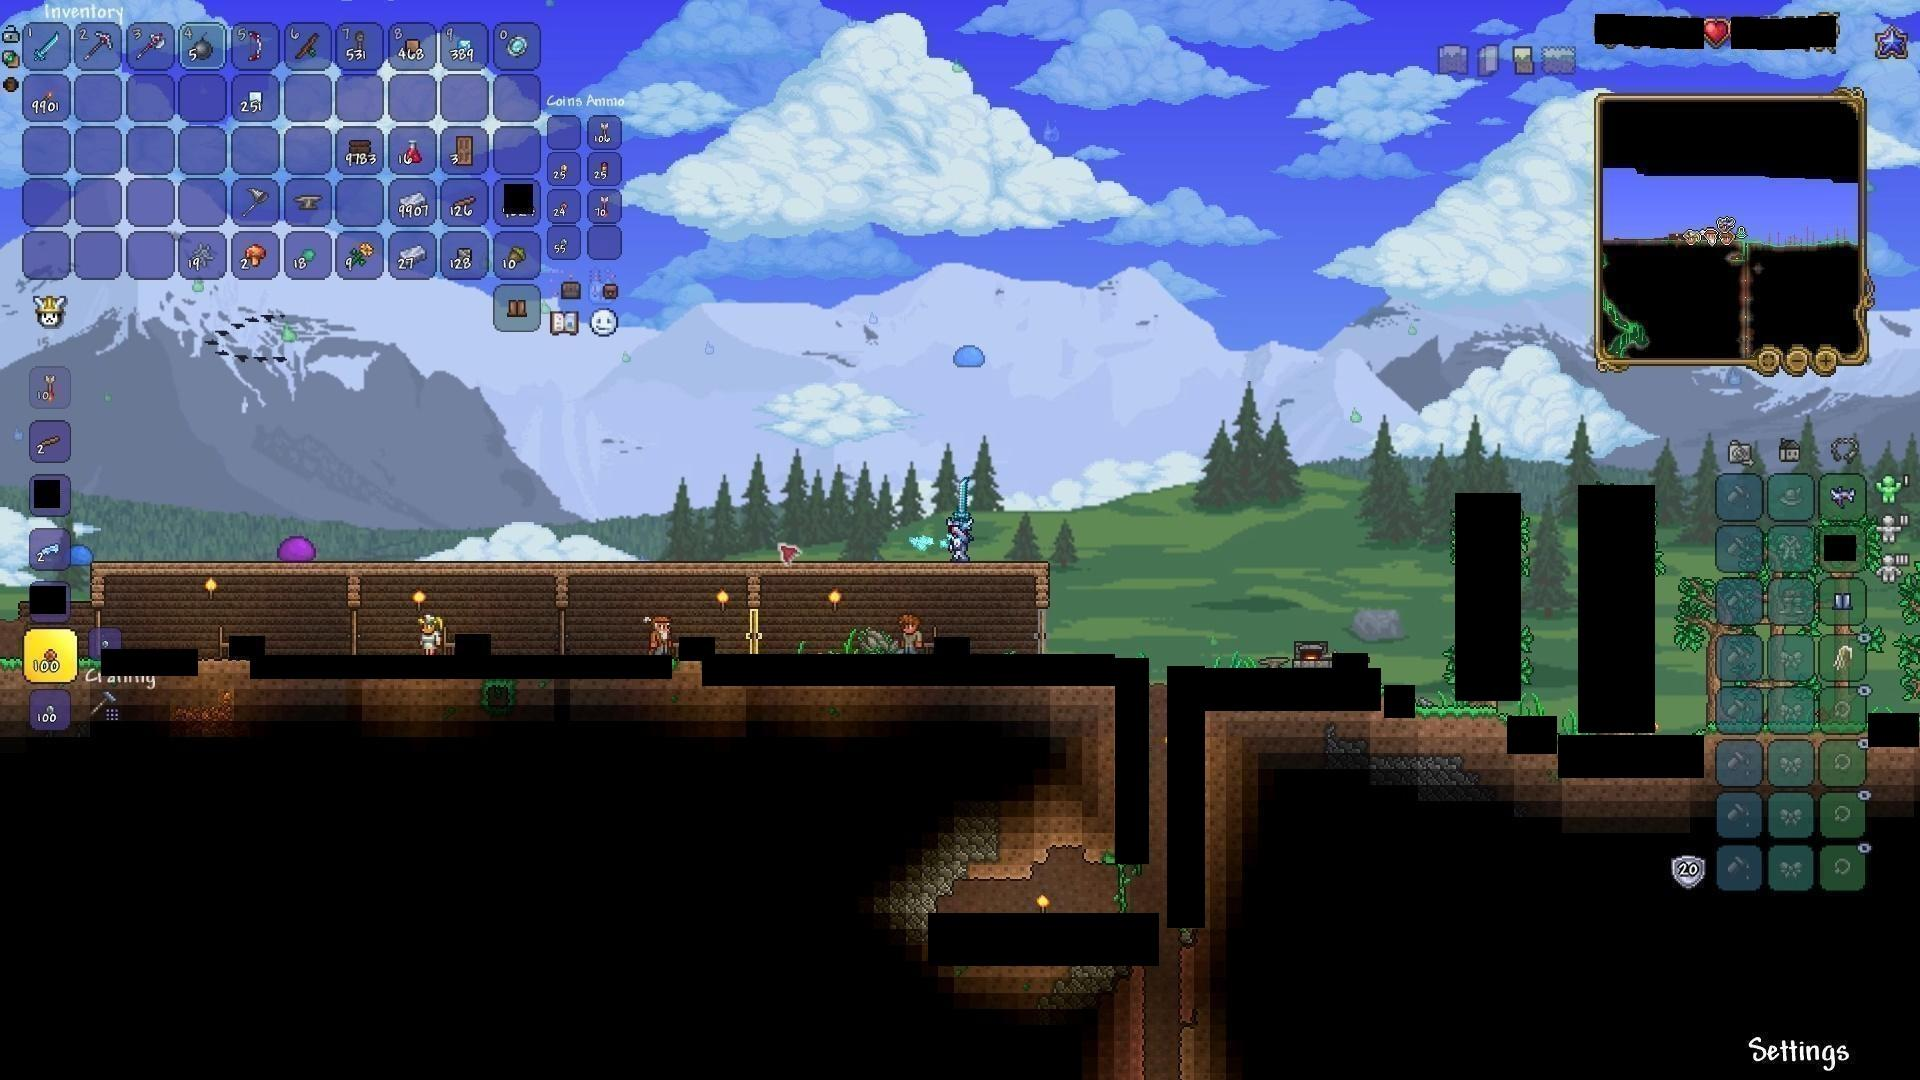dirt: (1415, 705, 1510, 748)
heart: (1704, 18, 1731, 49)
legs: (504, 291, 529, 322), (1829, 585, 1854, 615)
slime: (278, 533, 318, 564), (949, 342, 992, 371)
tree: (1676, 574, 1722, 728)
